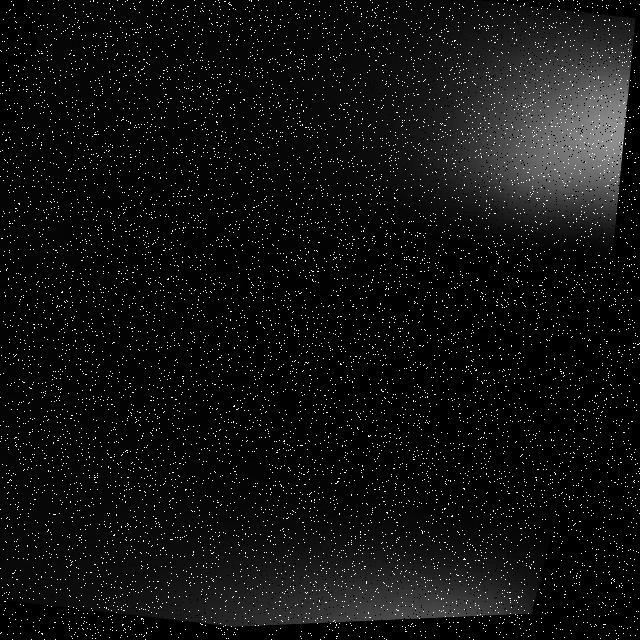person: (1, 460, 568, 640), (347, 1, 640, 247)
